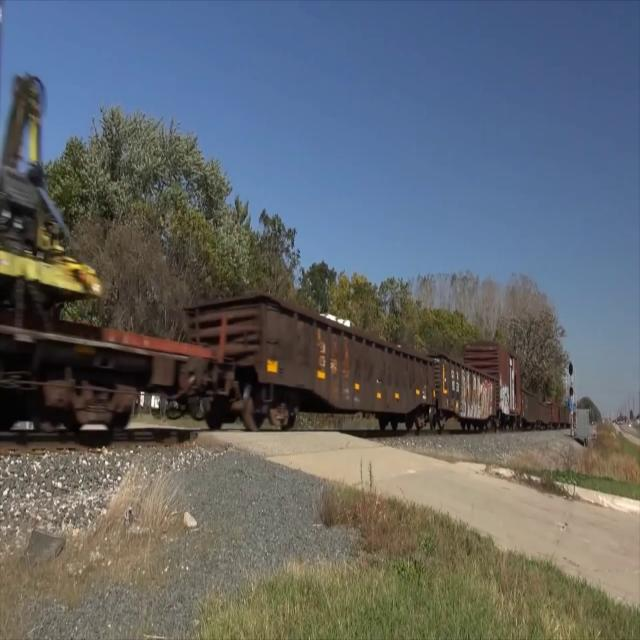boxcar: (460, 339, 522, 434)
cargo: (0, 55, 106, 317)
flatcar: (0, 310, 232, 447)
gondola: (184, 288, 437, 442), (434, 348, 498, 436)
